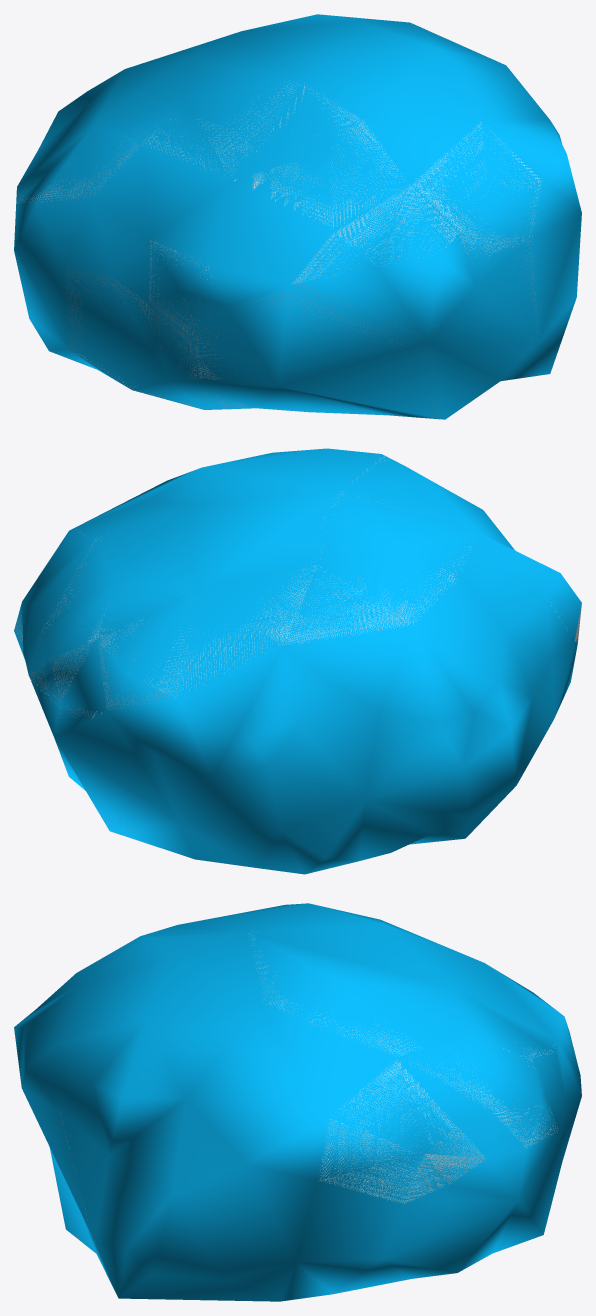
The model's file is PF_Rock_Boulder.glb.
3 views of the same model, one above another, from view 1: azimuth 30°, elevation 25°; view 2: azimuth 150°, elevation 25°; view 3: azimuth 270°, elevation 25° (orthographic). The views are drawn at different scales.
Visible parts, largest first — view 1: SM_Rock_Boulder-gcc-stone, SM_Rock_Boulder; view 2: SM_Rock_Boulder-gcc-stone, SM_Rock_Boulder; view 3: SM_Rock_Boulder-gcc-stone, SM_Rock_Boulder.
Part boxes in pixels (x1=…): SM_Rock_Boulder-gcc-stone: x1=14, y1=14, x2=581, y2=419; SM_Rock_Boulder: x1=18, y1=23, x2=541, y2=418; SM_Rock_Boulder-gcc-stone: x1=14, y1=448, x2=581, y2=874; SM_Rock_Boulder: x1=15, y1=456, x2=581, y2=865; SM_Rock_Boulder-gcc-stone: x1=14, y1=903, x2=581, y2=1301; SM_Rock_Boulder: x1=31, y1=938, x2=556, y2=1239.
Size of the model in its own units: 31.72 by 17.4 by 31.71.
